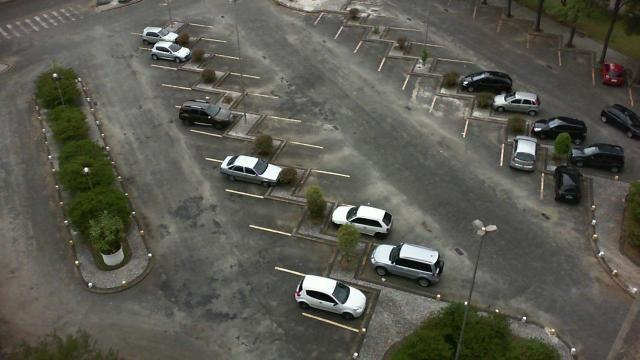empty: (271, 219, 347, 269), (245, 184, 312, 228), (302, 162, 362, 202), (272, 132, 336, 168), (204, 126, 262, 158), (253, 108, 314, 138), (468, 111, 507, 153), (237, 84, 295, 112), (202, 44, 258, 72), (172, 78, 224, 105), (401, 69, 442, 103), (432, 92, 472, 126), (158, 56, 206, 84), (380, 52, 416, 86), (314, 6, 352, 38), (222, 66, 272, 90), (410, 34, 458, 58), (336, 23, 372, 53), (354, 36, 392, 64), (434, 53, 478, 75), (562, 42, 590, 76), (192, 32, 236, 52), (175, 18, 219, 38), (366, 6, 410, 26), (500, 16, 532, 43), (529, 28, 559, 56), (389, 22, 428, 42)
occupied: (304, 263, 388, 327), (316, 198, 388, 242), (366, 239, 432, 285), (224, 152, 286, 192), (570, 146, 630, 182), (542, 170, 590, 210), (192, 99, 248, 131), (532, 116, 584, 148), (502, 136, 542, 176), (496, 93, 552, 120), (464, 71, 514, 96), (151, 42, 197, 66), (138, 26, 182, 48)
